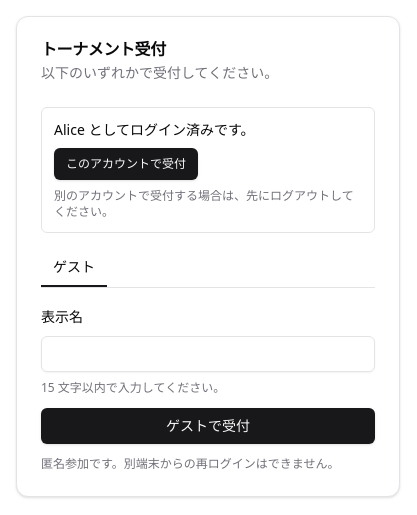
Scenario: JoinClient — 自動所属フィードバック（08 Phase 2） › failed のとき受付は成功のまま、控えめな再試行注記を出す
Click the button "このアカウントで受付".
click(126, 164)  # box [54,148,198,180]
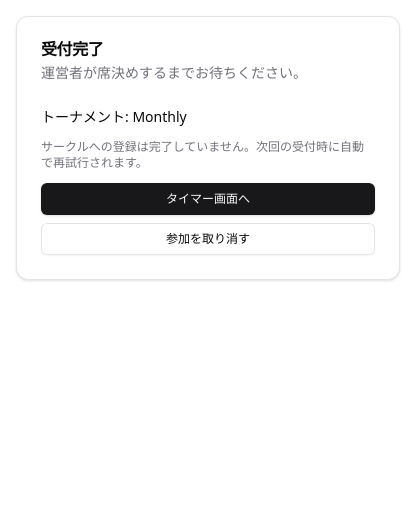
Now the text "受付完了" is shown, box [41,38,103,60]
Now the text "サークルへの登録は完了していません。次回の受付時に自動で再試行されます。" is shown, box [41,139,375,171]
